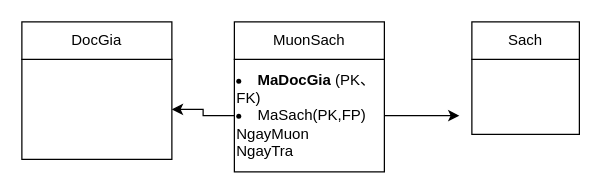
Some shapes in this 601 by 194 pixel diagram are drawn without their labels. The shapes that lost their labels are listed below. From the top down, each one's centre as x and y in pixels, then its label:
the point at 96,108: MaDocGia (PK) TenDocGia NgaySinh SoDienThoai
the point at 525,96: MaSach (PK) TenSach TacGia NamXuatBan
